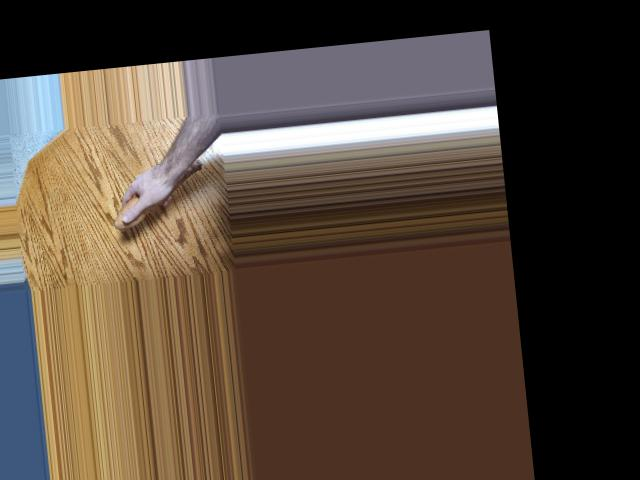sweet_potato: (107, 157, 210, 230)
